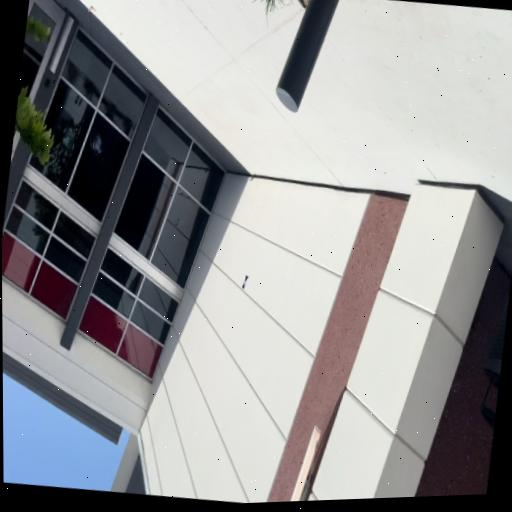target7: (241, 274, 249, 290)
